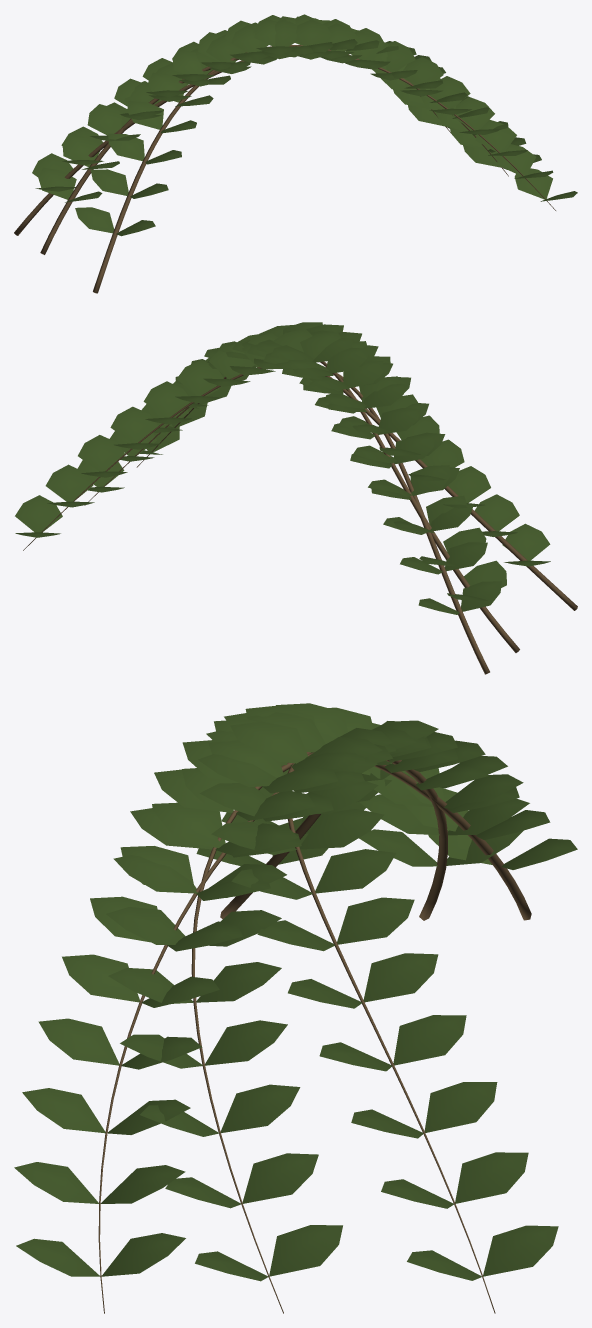
The model's file is bramble-lod2.glb.
The picture shows the model from 3 angles, top to bottom: view 1: azimuth 30°, elevation 25°; view 2: azimuth 150°, elevation 25°; view 3: azimuth 270°, elevation 25°; orthographic projection. The views are drawn at different scales.
Parts seen in each view (by area): view 1: bramble-lod2 foliage, bramble-lod2 stems; view 2: bramble-lod2 foliage, bramble-lod2 stems; view 3: bramble-lod2 foliage, bramble-lod2 stems.
Boxes of the visible parts, left/top/right/bottom form: bramble-lod2 foliage: left=32, top=14, right=577, bottom=236; bramble-lod2 stems: left=14, top=45, right=555, bottom=293; bramble-lod2 foliage: left=15, top=322, right=550, bottom=614; bramble-lod2 stems: left=23, top=361, right=577, bottom=674; bramble-lod2 foliage: left=14, top=703, right=577, bottom=1281; bramble-lod2 stems: left=98, top=752, right=531, bottom=1313.
Bounding box in the file's own units: 1.25 × 0.5156 × 0.7199.
